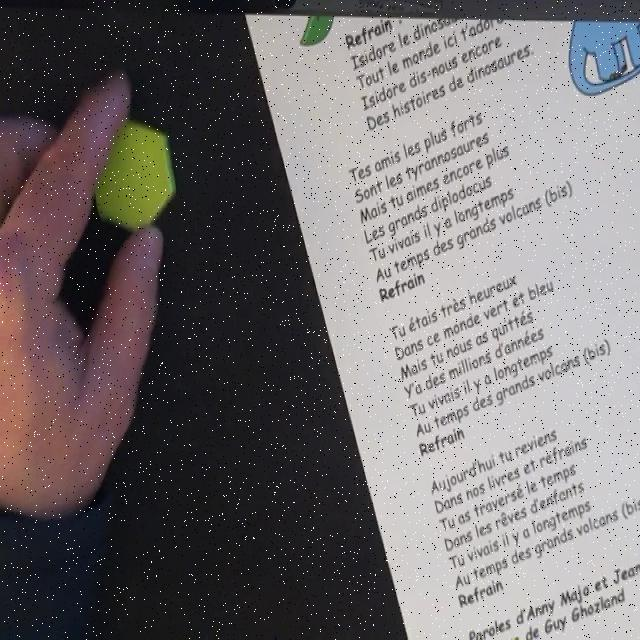hexagon: (84, 117, 178, 229)
